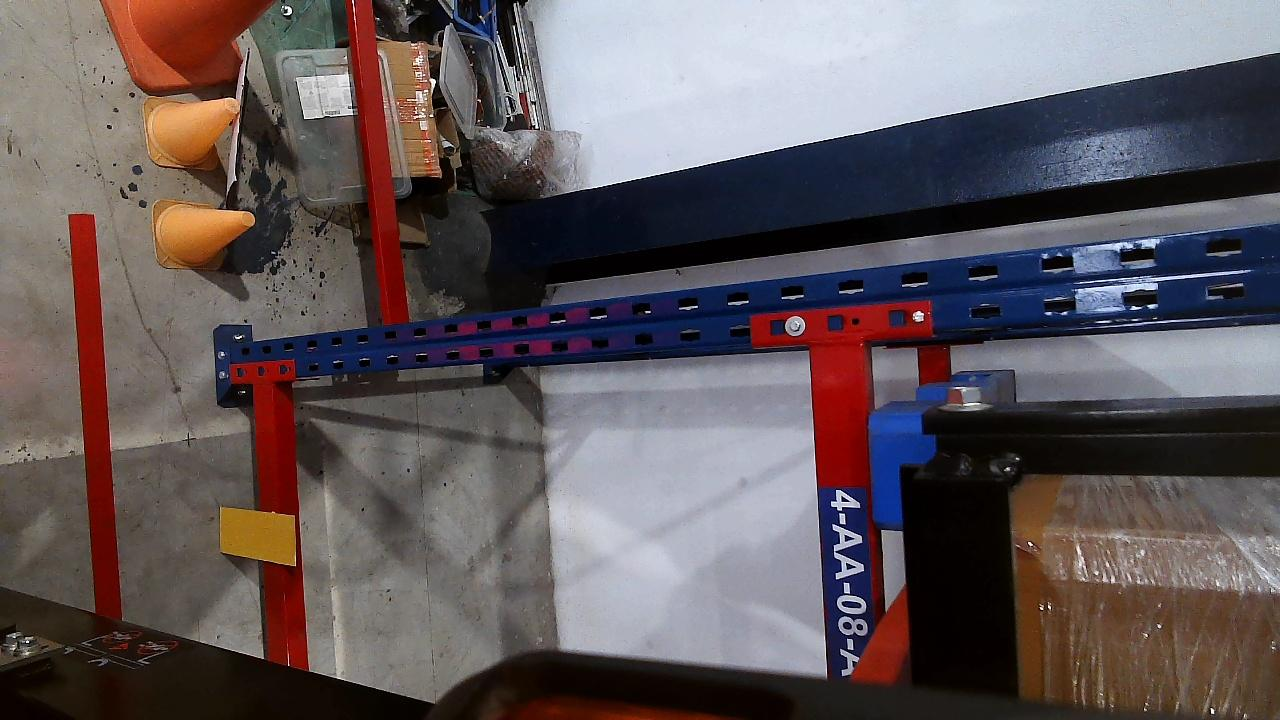h_rack: (808, 340, 887, 680), (251, 380, 291, 667)
orange_strip: (218, 506, 297, 564)
red_line: (69, 213, 120, 617)
